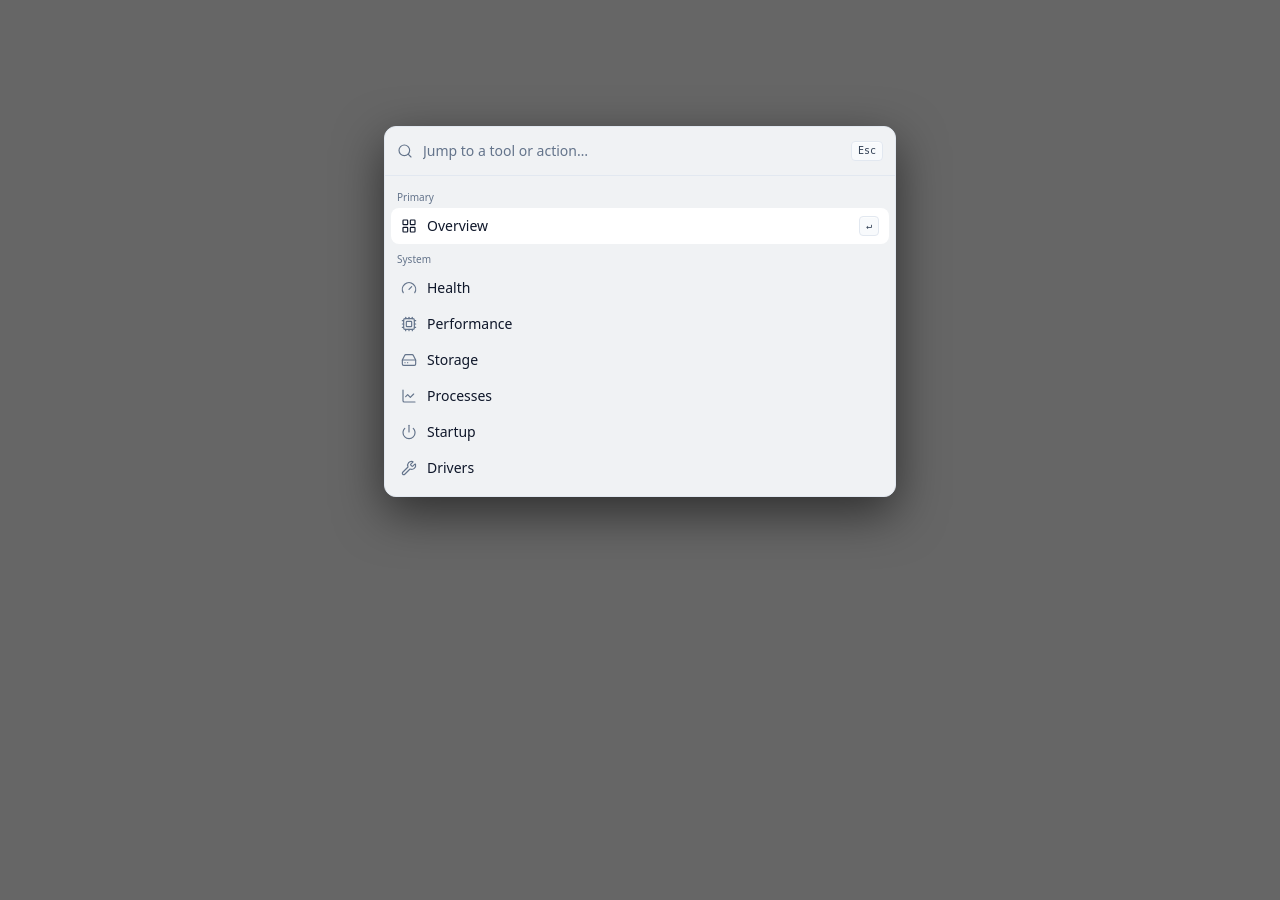
it: CommandPalette › filters commands by query
The width and height of the screenshot is (1280, 900).
Type "storage" into the field with test id "command-palette-input". click: (632, 151)
box: [423, 127, 841, 175]
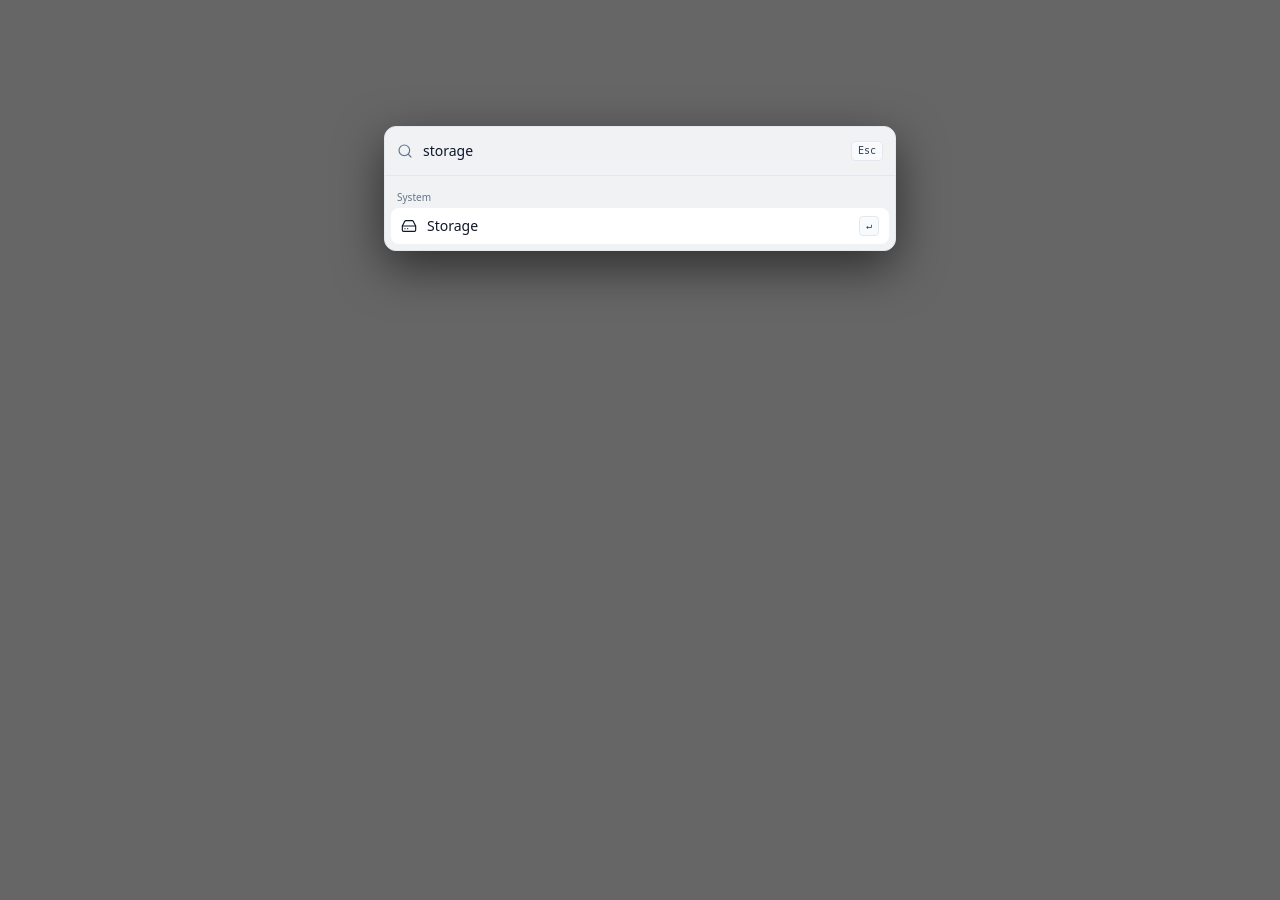
expect the text "Storage" is shown: met, box [427, 216, 478, 235]
expect the button "Overview" is gone: met
